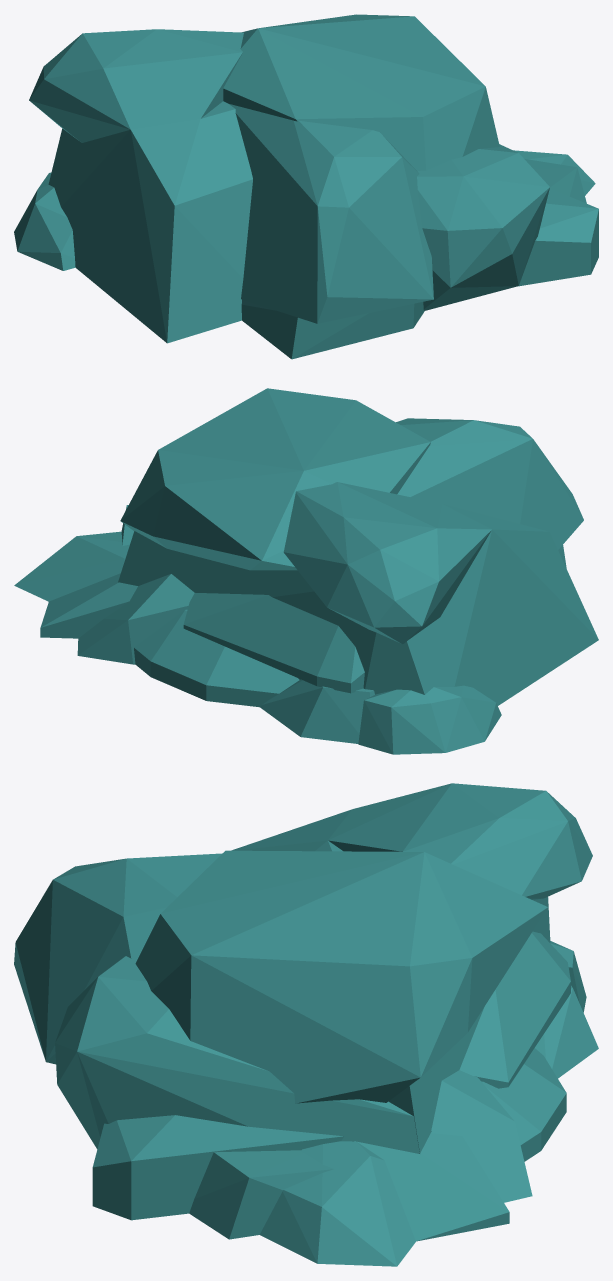
The model's file is Obstacle_08_Colllider_01.FBX.
3 views of the same model, one above another, from view 1: azimuth 30°, elevation 25°; view 2: azimuth 150°, elevation 25°; view 3: azimuth 270°, elevation 25° (orthographic). The views are drawn at different scales.
Visible parts, largest first — view 1: COLLIDER4, COLLIDER3, COLLIDER1, COLLIDER2, COLLIDER9, COLLIDER10, COLLIDER11, COLLIDER7, COLLIDER12, COLLIDER8; view 2: COLLIDER1, COLLIDER4, COLLIDER2, COLLIDER3, COLLIDER15, COLLIDER7, COLLIDER13, COLLIDER6, COLLIDER14, COLLIDER8, COLLIDER5; view 3: COLLIDER1, COLLIDER9, COLLIDER2, COLLIDER3, COLLIDER11, COLLIDER8, COLLIDER15, COLLIDER5, COLLIDER12, COLLIDER6, COLLIDER4, COLLIDER13 (+2 smaller).
Boxes of the visible parts, x1,y1,x2,y2 form: COLLIDER4: [48, 101, 252, 343]; COLLIDER3: [228, 103, 433, 323]; COLLIDER1: [223, 14, 499, 170]; COLLIDER2: [29, 29, 243, 142]; COLLIDER9: [417, 144, 549, 310]; COLLIDER10: [241, 299, 424, 359]; COLLIDER11: [517, 188, 598, 286]; COLLIDER7: [14, 172, 75, 270]; COLLIDER12: [524, 159, 586, 203]; COLLIDER8: [513, 150, 595, 195]; COLLIDER1: [120, 388, 430, 570]; COLLIDER4: [118, 504, 598, 705]; COLLIDER2: [283, 482, 491, 643]; COLLIDER3: [396, 418, 583, 549]; COLLIDER15: [183, 593, 364, 693]; COLLIDER7: [358, 685, 501, 754]; COLLIDER13: [134, 609, 299, 707]; COLLIDER6: [77, 574, 194, 664]; COLLIDER14: [260, 679, 374, 743]; COLLIDER8: [14, 531, 129, 601]; COLLIDER5: [40, 573, 137, 638]; COLLIDER1: [135, 850, 547, 1103]; COLLIDER9: [55, 956, 419, 1153]; COLLIDER2: [328, 783, 592, 899]; COLLIDER3: [14, 853, 222, 1064]; COLLIDER11: [92, 1115, 343, 1220]; COLLIDER8: [259, 1141, 415, 1266]; COLLIDER15: [459, 931, 570, 1088]; COLLIDER5: [353, 1132, 509, 1241]; COLLIDER12: [189, 1150, 333, 1239]; COLLIDER6: [431, 1070, 532, 1202]; COLLIDER4: [231, 809, 550, 1153]; COLLIDER13: [481, 1048, 566, 1161].
Bounding box in the file's own units: 352 × 129 × 288.
